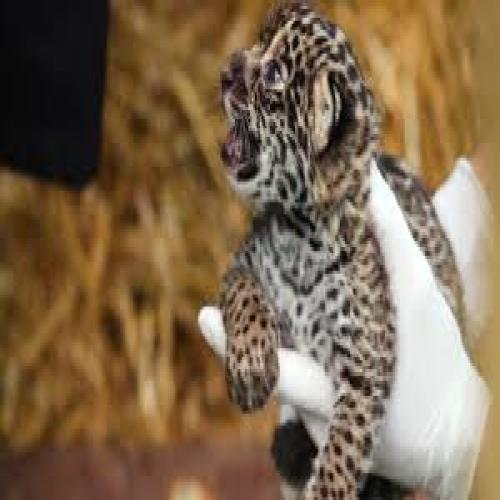jaguar_not-endangered: (226, 6, 465, 500)
